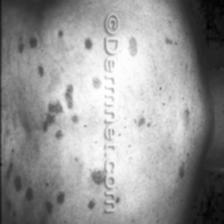Non-Cancerous Skin Condition: (0, 17, 100, 224), (127, 36, 147, 82)
